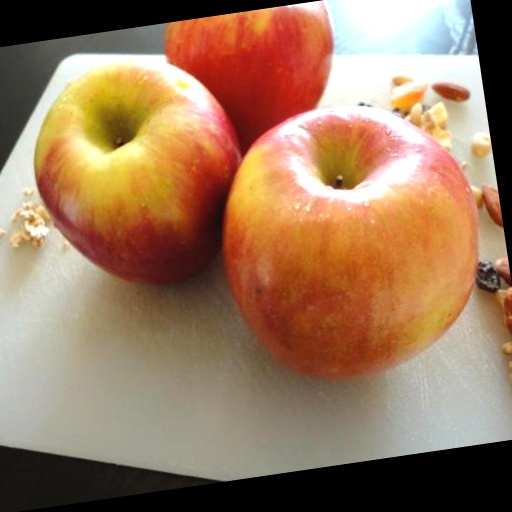fruit: (223, 107, 478, 378), (35, 59, 240, 283), (165, 0, 333, 151)
